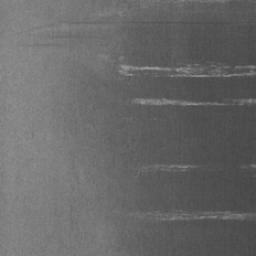Waist folding: (17, 0, 256, 34), (91, 53, 256, 79), (128, 208, 256, 223), (111, 96, 256, 108), (138, 162, 223, 174), (20, 42, 83, 49), (241, 162, 256, 170), (0, 81, 17, 87)
